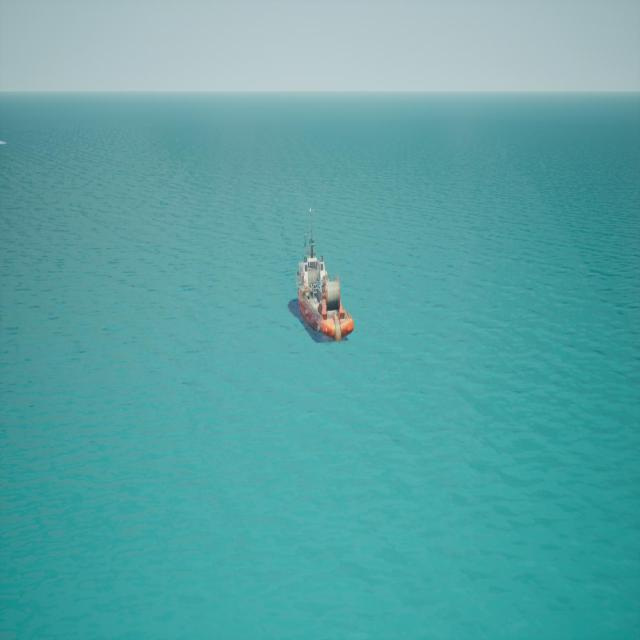tug boat: (294, 207, 347, 347)
